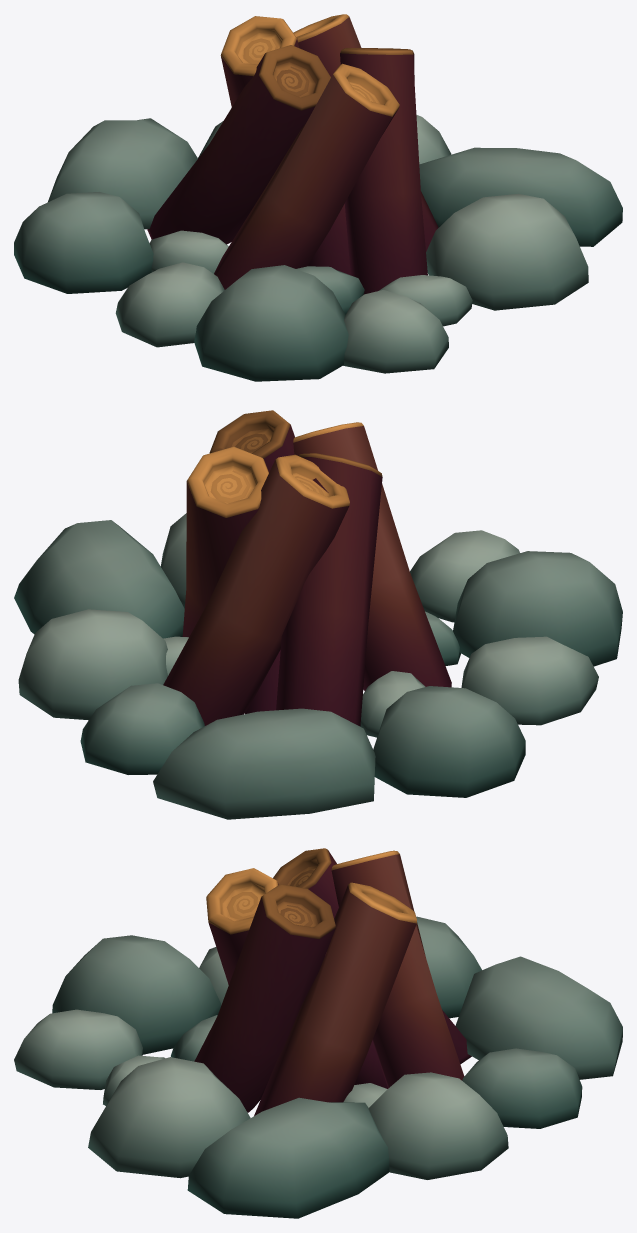
Rendered from SM_campfire_001.fbx.
3 views of the same model, one above another, from view 1: azimuth 30°, elevation 25°; view 2: azimuth 150°, elevation 25°; view 3: azimuth 270°, elevation 25° (orthographic). The views are drawn at different scales.
Visible parts, largest first — view 1: SM_campfire_001; view 2: SM_campfire_001; view 3: SM_campfire_001.
Boxes of the visible parts, <box> form: SM_campfire_001: <box>14,14,622,381</box>; SM_campfire_001: <box>14,410,622,819</box>; SM_campfire_001: <box>14,848,622,1218</box>.
Bounding box in the file's own units: 148 × 62.88 × 150.
